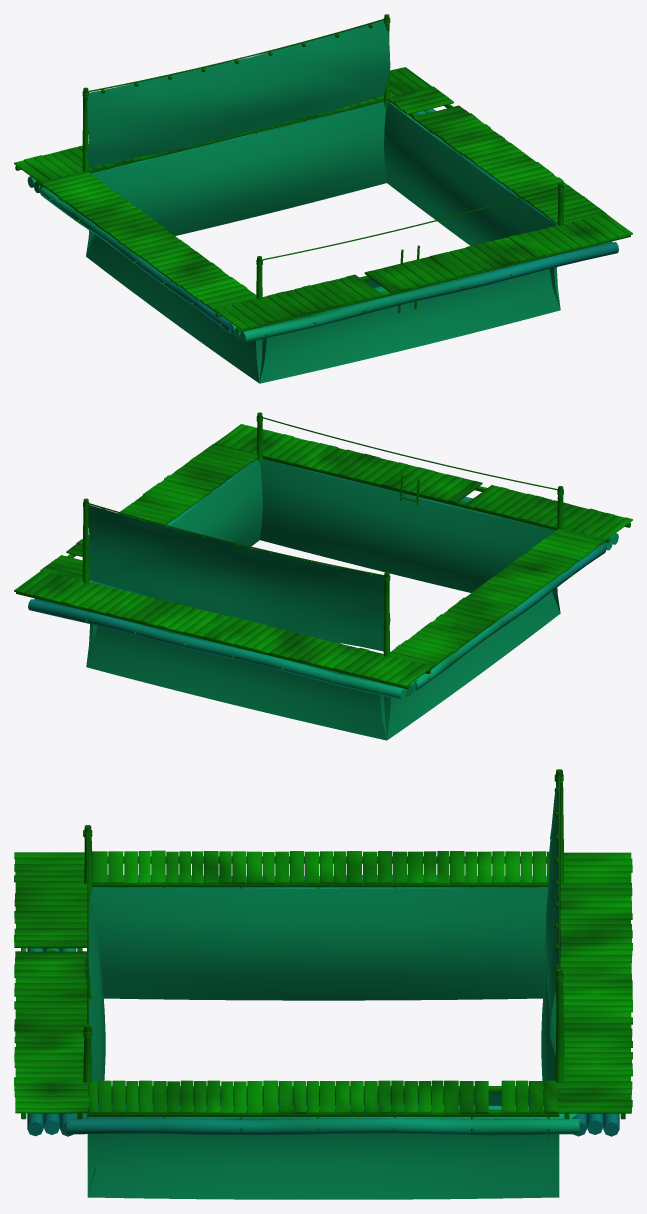
File: net_pen.glb
3 renders of one model, top to bottom at view 1: azimuth 30°, elevation 25°; view 2: azimuth 150°, elevation 25°; view 3: azimuth 270°, elevation 25°, orthographic. The views are drawn at different scales.
Visible parts, largest first — view 1: net_pen; view 2: net_pen; view 3: net_pen.
Part boxes in pixels (x1,y1,x2,y2): net_pen: [14, 14, 632, 383]; net_pen: [14, 412, 632, 740]; net_pen: [14, 769, 632, 1199].
Size of what is drawn, in the model's own units: 12.08 by 4.95 by 12.08.
